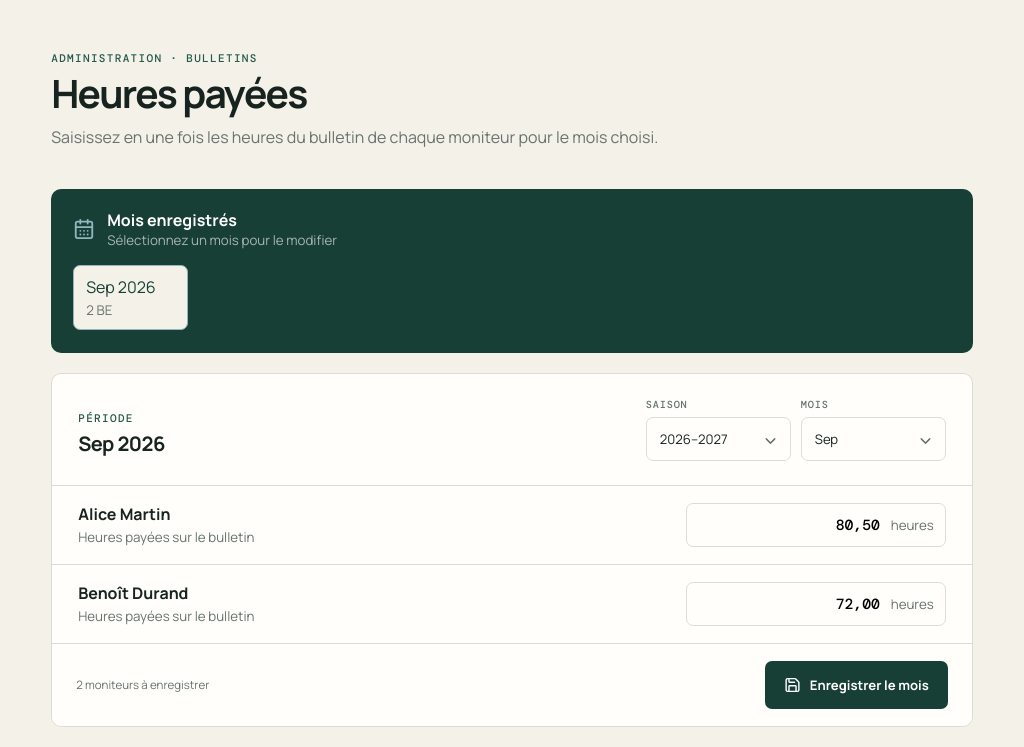
Test: PayrollEntryPage › shows all BE for one month and saves their decimal hours together
Expected: the field named "Heures payées pour Benoît Durand" holds "72,00", [686, 582, 946, 626]
Replace the text in the field named "Heures payées pour Alice Martin" with "81,25" at {"x": 816, "y": 525}, box [686, 503, 946, 547]
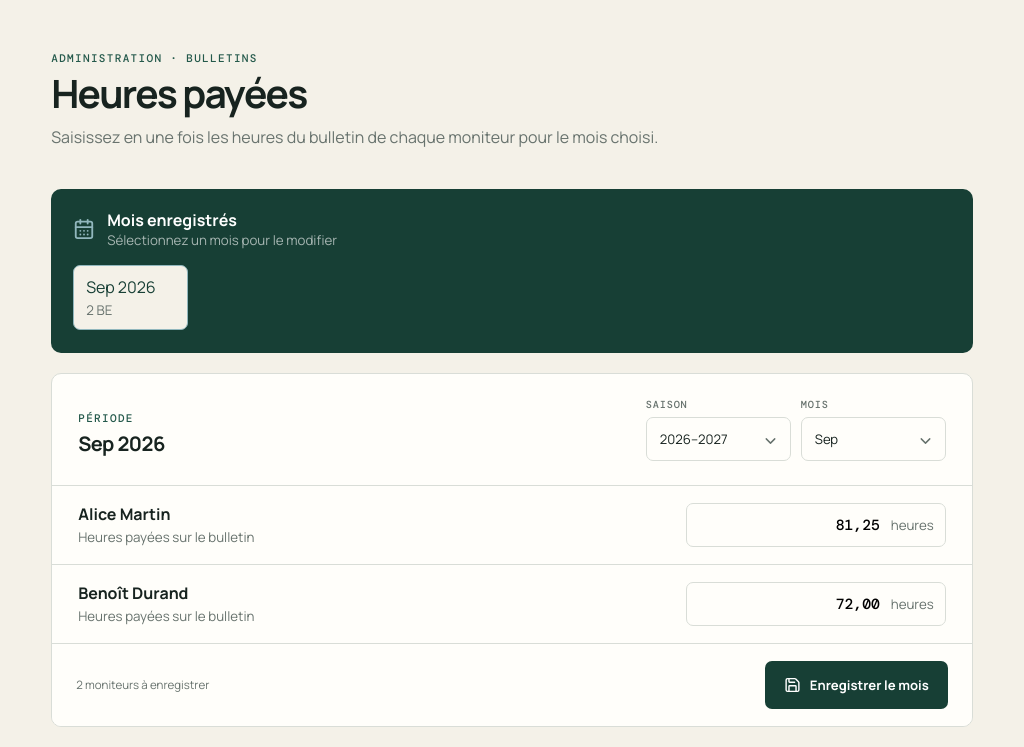
Click the button "Enregistrer le mois" at {"x": 856, "y": 685}, box [765, 661, 948, 709]
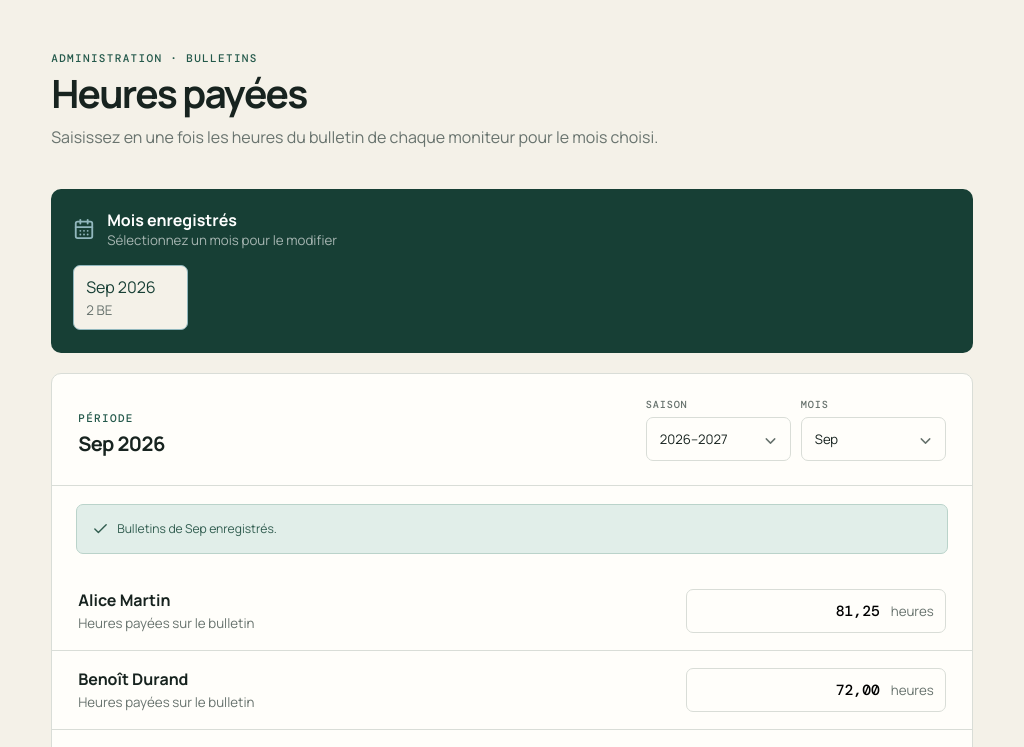
Expected: the text "Bulletins de Sep enregistrés." is shown, [76, 504, 948, 554]
